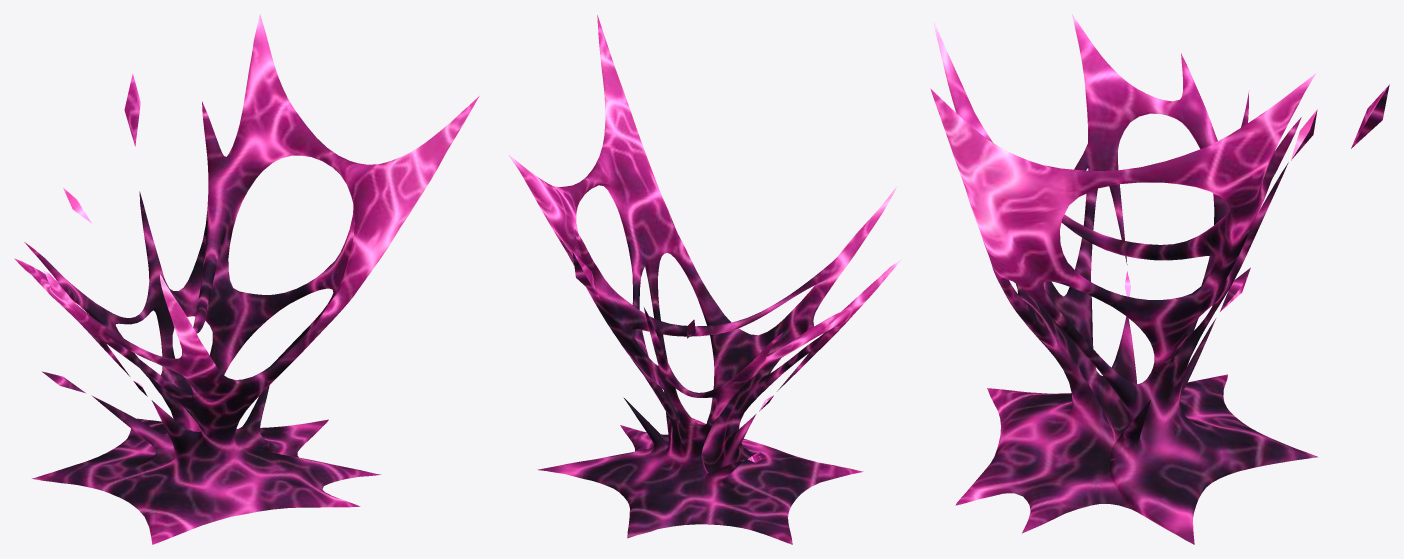
File: sky_decor_spire_chaos_v35.glb
The picture shows the model from 3 angles, left to right: view 1: azimuth 30°, elevation 25°; view 2: azimuth 150°, elevation 25°; view 3: azimuth 270°, elevation 25°; orthographic projection. The views are drawn at different scales.
Parts seen in each view (by area): view 1: caos_hro_chaosconfluence_01a; view 2: caos_hro_chaosconfluence_01a; view 3: caos_hro_chaosconfluence_01a.
Boxes of the visible parts, x1,y1,x2,y2 form: caos_hro_chaosconfluence_01a: (14,14,479,544); caos_hro_chaosconfluence_01a: (509,15,900,544); caos_hro_chaosconfluence_01a: (930,14,1389,544).
Bounding box in the file's own units: 25.11 × 24.85 × 21.42.
Materials: 1 (1 with a texture image).
